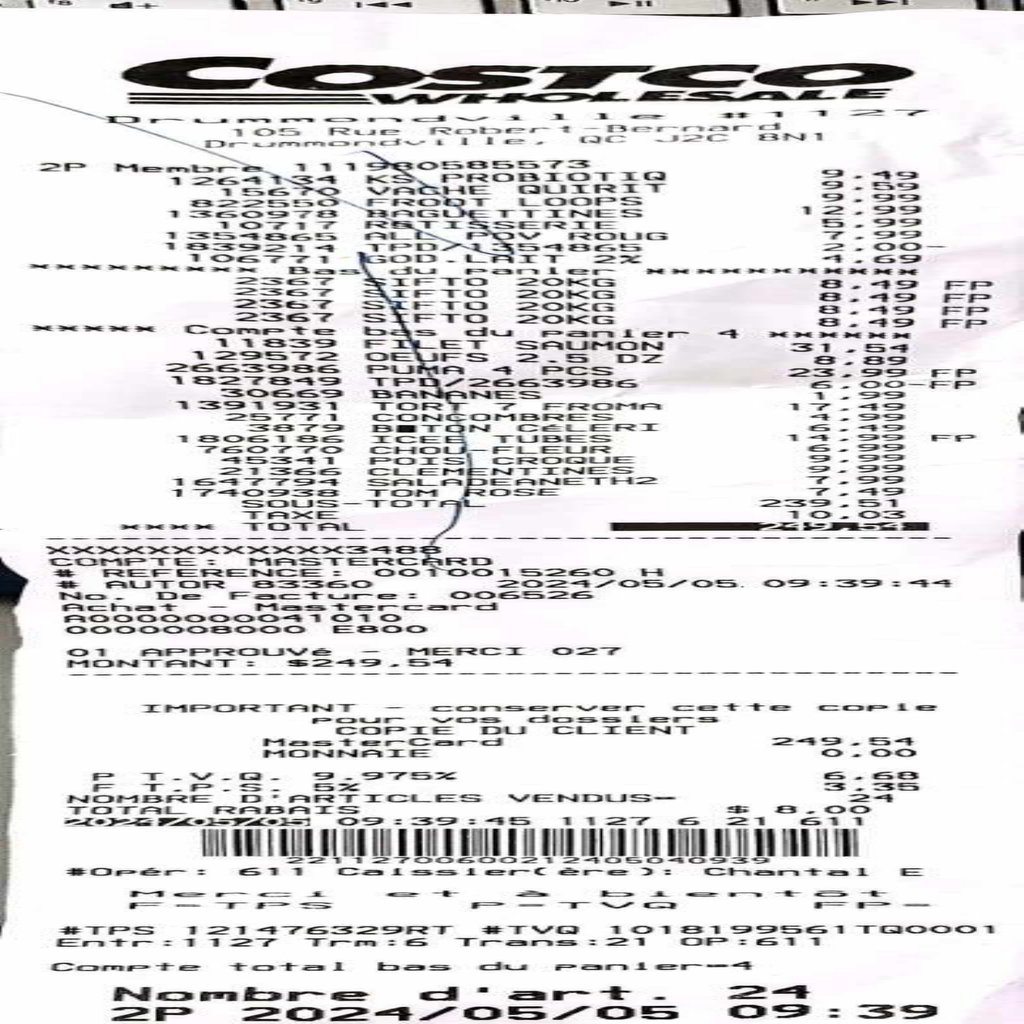recipt: (4, 8, 1022, 1016)
